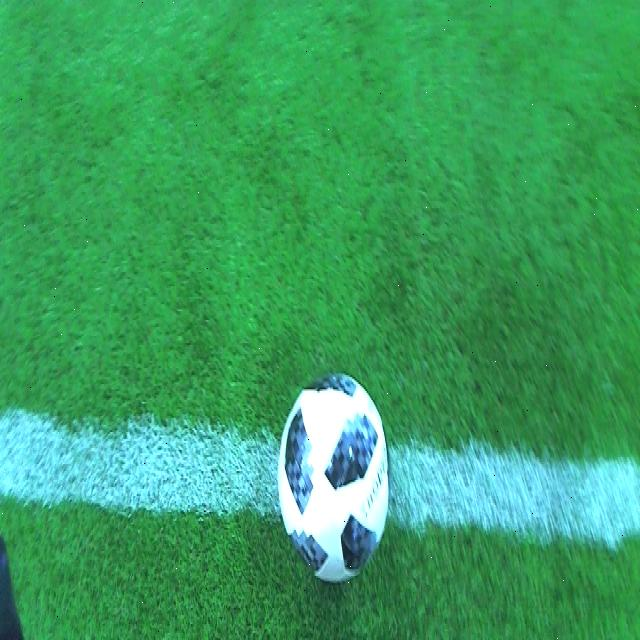ball: (277, 372, 390, 588)
